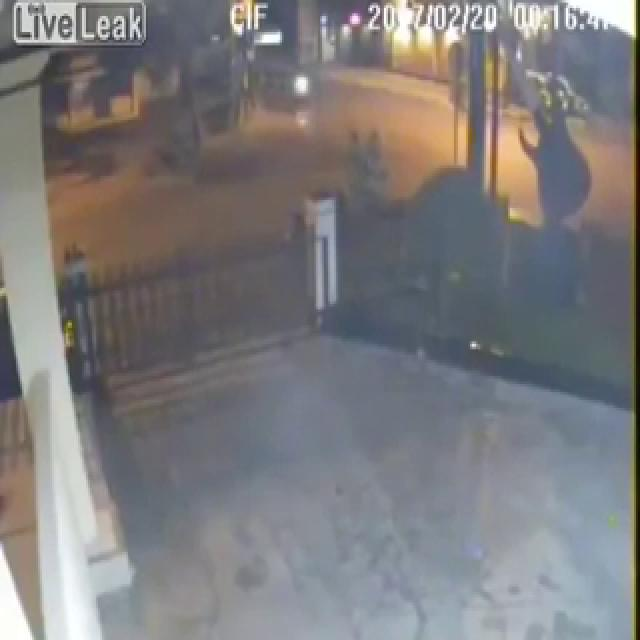road accidents: (103, 2, 565, 347)
